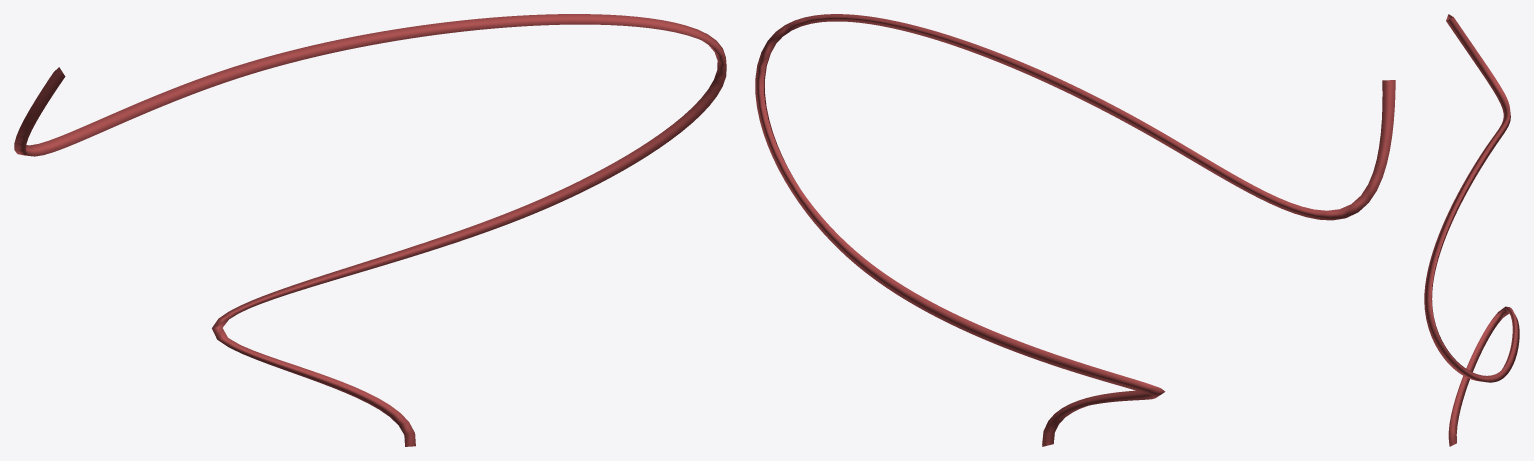
The model's file is wireFiveWild.fbx.
3 views of the same model, side by side, from view 1: azimuth 30°, elevation 25°; view 2: azimuth 150°, elevation 25°; view 3: azimuth 270°, elevation 25° (orthographic). The views are drawn at different scales.
Visible parts, largest first — view 1: extrudedSurface15; view 2: extrudedSurface15; view 3: extrudedSurface15.
Part boxes in pixels (x1,y1,x2,y2): extrudedSurface15: (14,14,726,446); extrudedSurface15: (755,14,1395,446); extrudedSurface15: (1424,14,1519,446).
Size of the model in its own units: 76.66 by 50.12 by 13.84.
